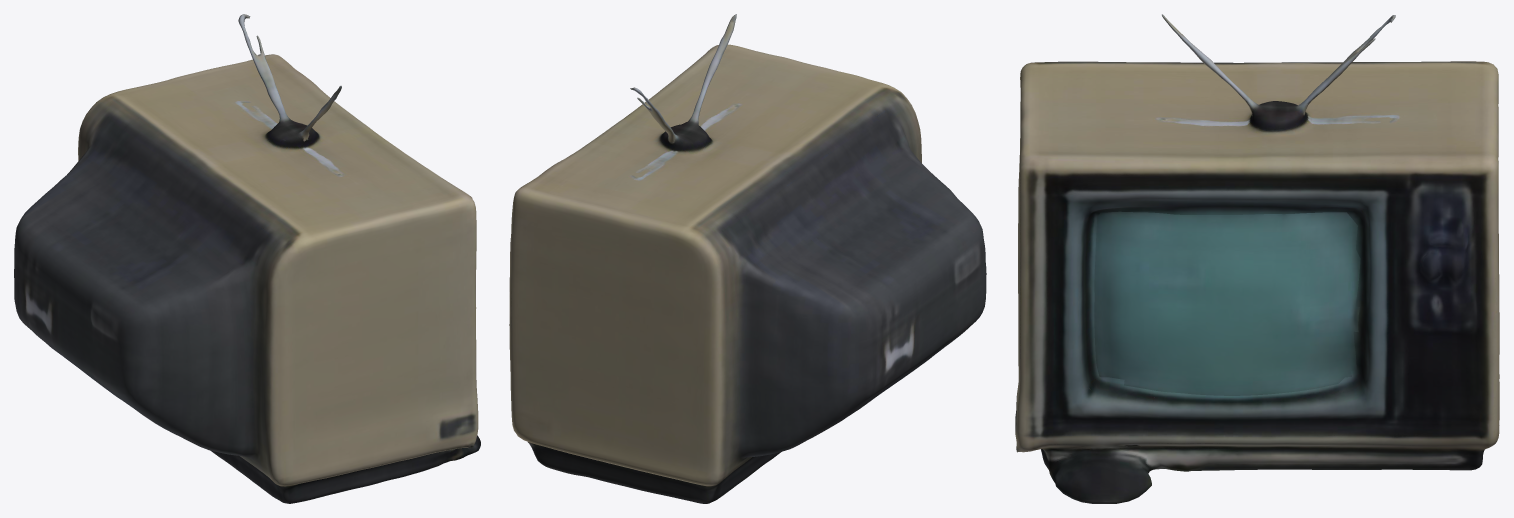
3 views of the same model, side by side, from view 1: azimuth 30°, elevation 25°; view 2: azimuth 150°, elevation 25°; view 3: azimuth 270°, elevation 25° (orthographic). The views are drawn at different scales.
Parts seen in each view (by area): view 1: mesh; view 2: mesh; view 3: mesh, display.
Boxes of the visible parts, x1,y1,x2,y2 form: mesh: (14, 14, 480, 503); mesh: (509, 14, 986, 503); mesh: (1015, 14, 1499, 503); display: (1094, 211, 1360, 395).
Bounding box in the file's own units: 0.931 × 0.9461 × 0.9676.
1 material, 1 textured.
